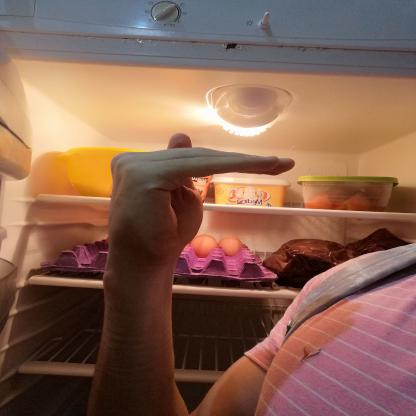KHAA: (87, 124, 311, 278)
